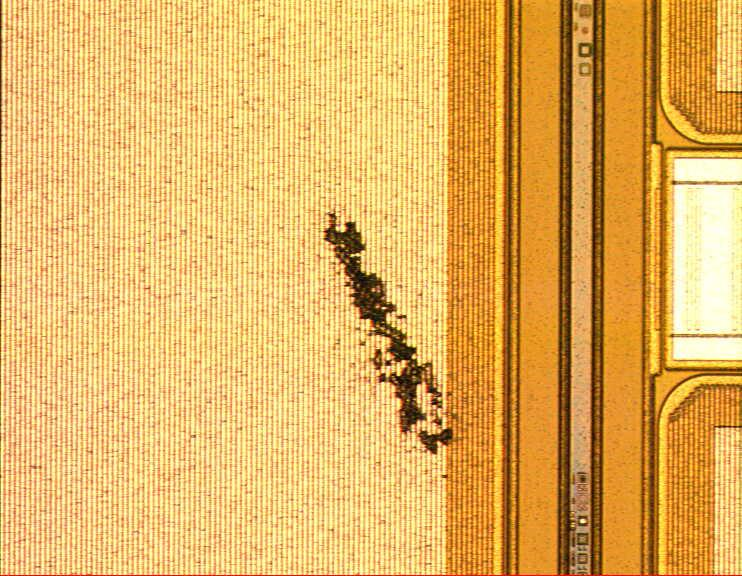SCRATCH: (309, 207, 472, 464)
